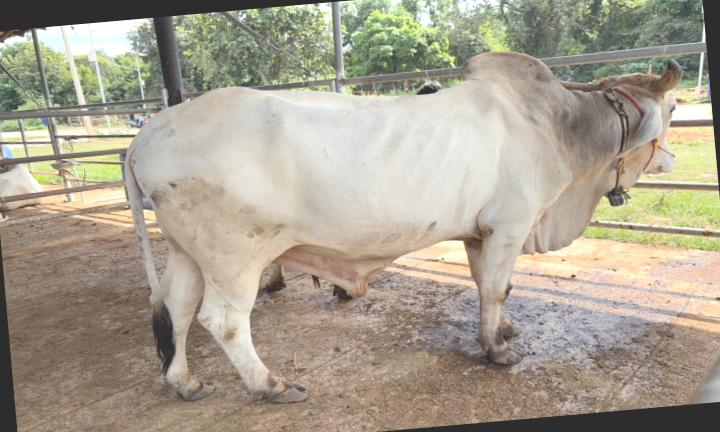Brahman: (126, 51, 682, 402)
